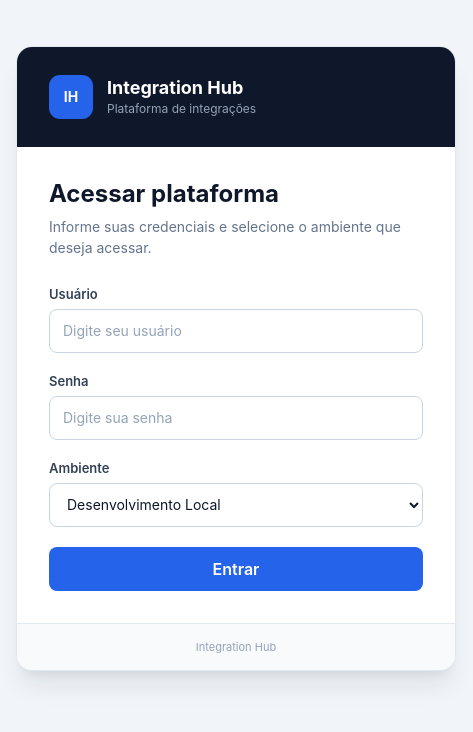
Test: LoginPage › exibe o erro retornado pelo login
Type "admin" into the field labelled "Usuário" at (236, 330), box [49,308,423,352]
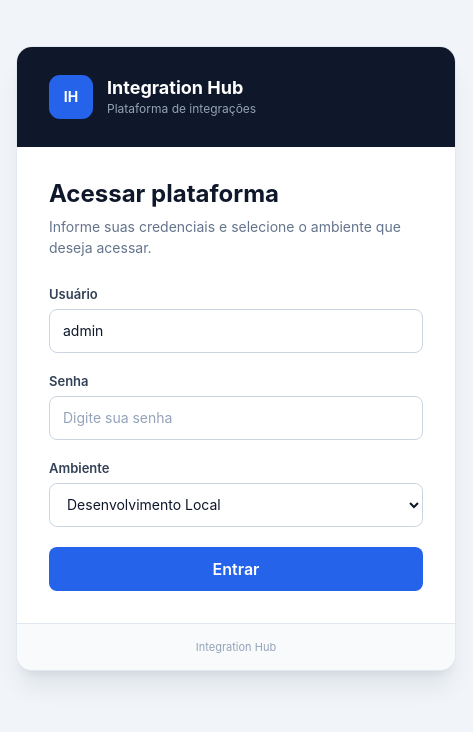
Type "incorreta" into the password field labelled "Senha" at (236, 418), box [49,396,423,440]
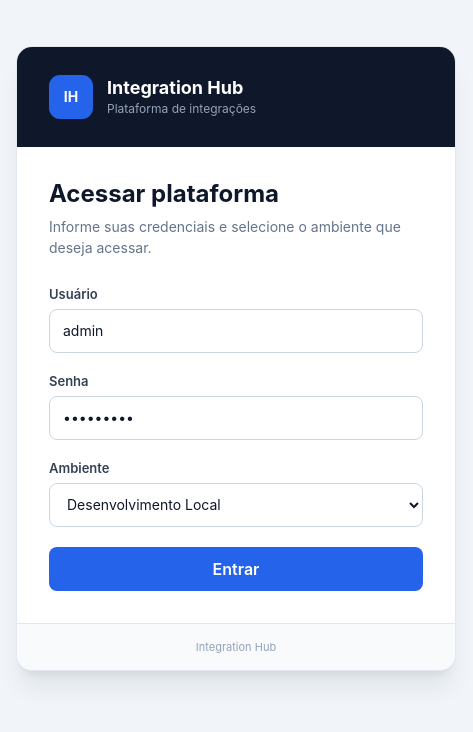
Click the button "Entrar" at (236, 568), box [49,546,423,590]
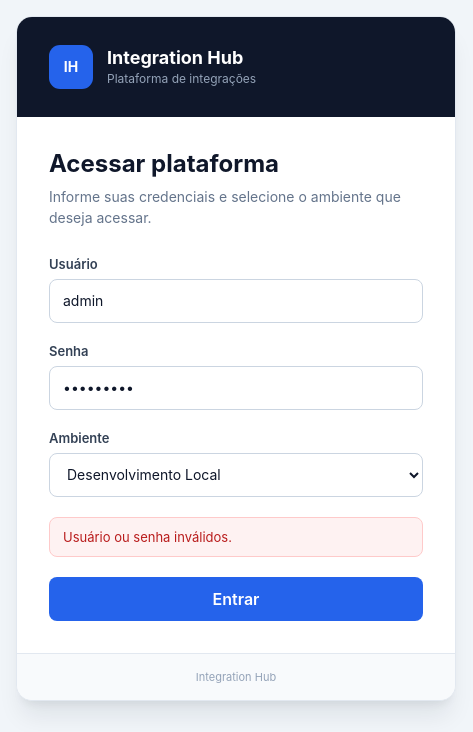
Expected: the text "Usuário ou senha inválidos." is shown, [49,516,423,556]
